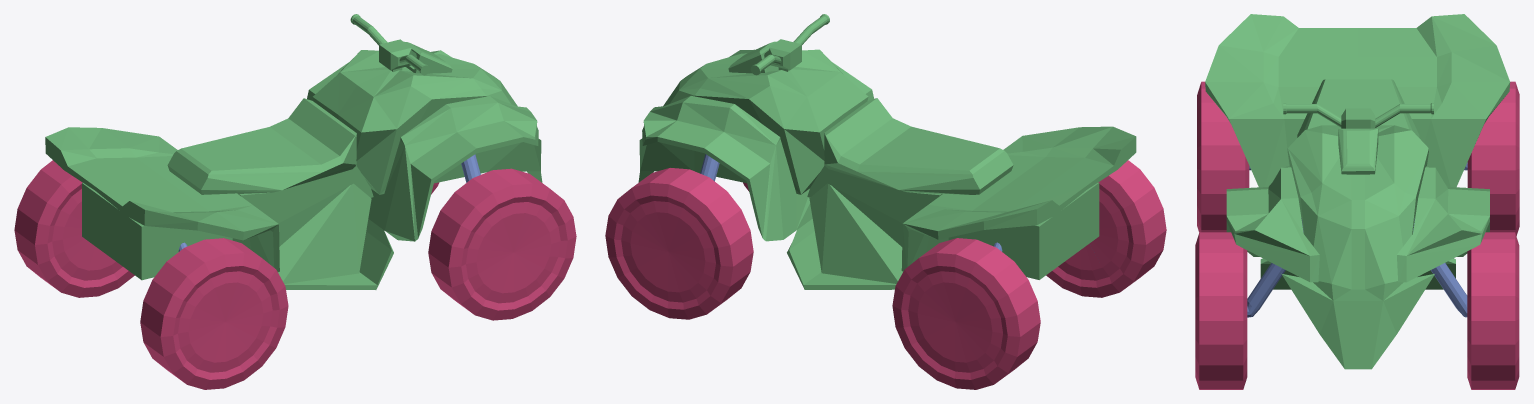
The model's file is full_15_coarse.glb.
The picture shows the model from 3 angles, left to right: view 1: azimuth 30°, elevation 25°; view 2: azimuth 150°, elevation 25°; view 3: azimuth 270°, elevation 25°; orthographic projection. The views are drawn at different scales.
Parts seen in each view (by area): view 1: world; view 2: world; view 3: world.
Part boxes in pixels (box(x1,y1,x2,y2)): world: box(14, 14, 576, 389); world: box(605, 14, 1166, 389); world: box(1195, 14, 1519, 389).
Size of the model in its own units: 0.7923 by 0.3992 by 0.4615.
